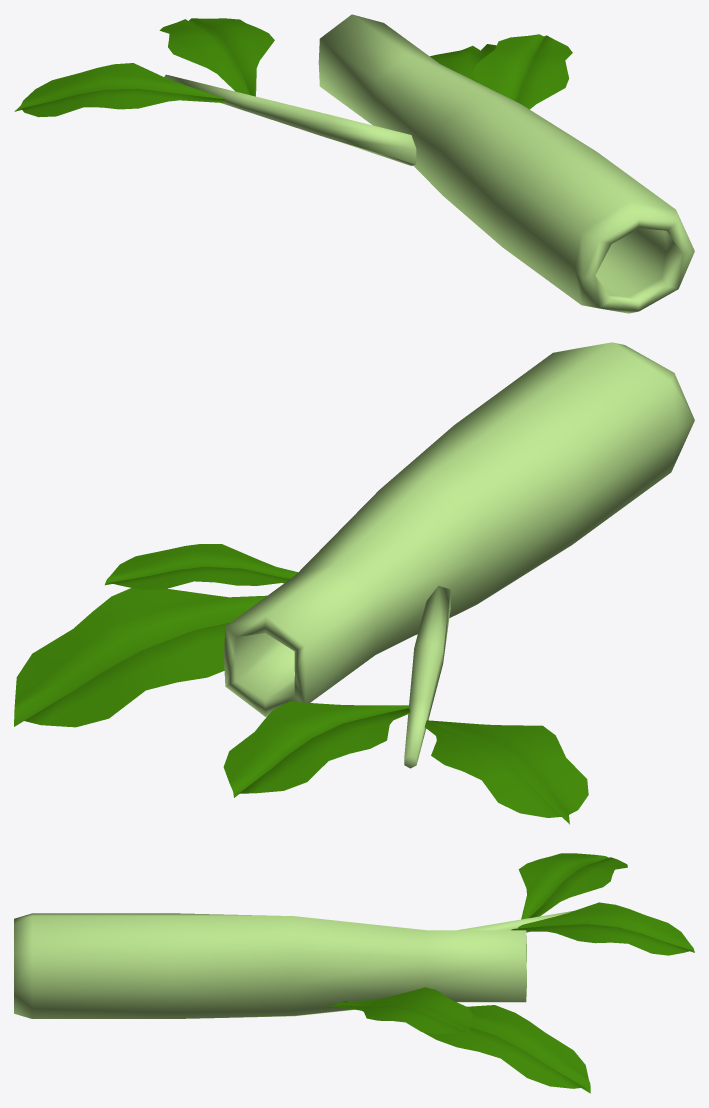
File: weapon_closed.fbx
3 views of the same model, one above another, from view 1: azimuth 30°, elevation 25°; view 2: azimuth 150°, elevation 25°; view 3: azimuth 270°, elevation 25° (orthographic). The views are drawn at different scales.
Visible parts, largest first — view 1: Cylinder, Plane.003, Plane.002, Plane, Cylinder.001, Plane.001; view 2: Cylinder, Plane.001, Plane.002, Plane.003, Plane, Cylinder.001; view 3: Cylinder, Plane.001, Plane.002, Plane.003, Plane, Cylinder.001.
Boxes of the visible parts, left/top/right/bottom form: Cylinder: left=318, top=14, right=694, bottom=313; Plane.003: left=14, top=63, right=225, bottom=117; Plane.002: left=159, top=18, right=274, bottom=96; Plane: left=472, top=34, right=572, bottom=109; Cylinder.001: left=164, top=74, right=416, bottom=165; Plane.001: left=430, top=44, right=496, bottom=82; Cylinder: left=224, top=342, right=694, bottom=716; Plane.001: left=14, top=588, right=266, bottom=727; Plane.002: left=223, top=701, right=410, bottom=797; Plane.003: left=425, top=720, right=588, bottom=824; Plane: left=105, top=544, right=297, bottom=589; Cylinder.001: left=404, top=585, right=450, bottom=768; Cylinder: left=14, top=913, right=526, bottom=1018; Plane.001: left=341, top=1001, right=590, bottom=1093; Plane.002: left=511, top=902, right=694, bottom=955; Plane.003: left=518, top=853, right=627, bottom=919; Plane: left=323, top=987, right=472, bottom=1034; Cylinder.001: left=457, top=911, right=572, bottom=932.
Bounding box in the file's own units: 111 × 153 × 26.3.
